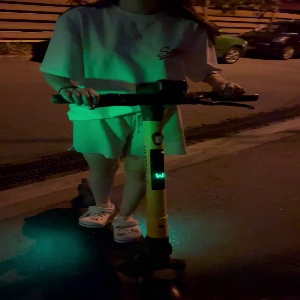human on a scooter: (40, 1, 261, 300)
